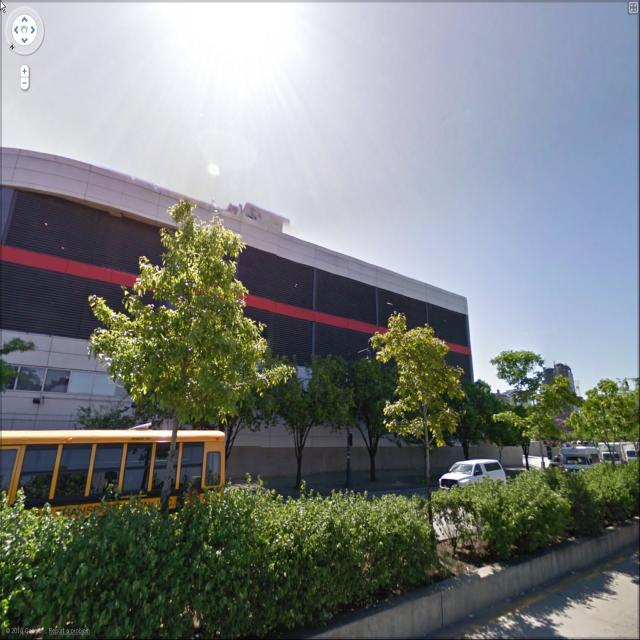b_2: (1, 138, 486, 420), (536, 358, 586, 445)
